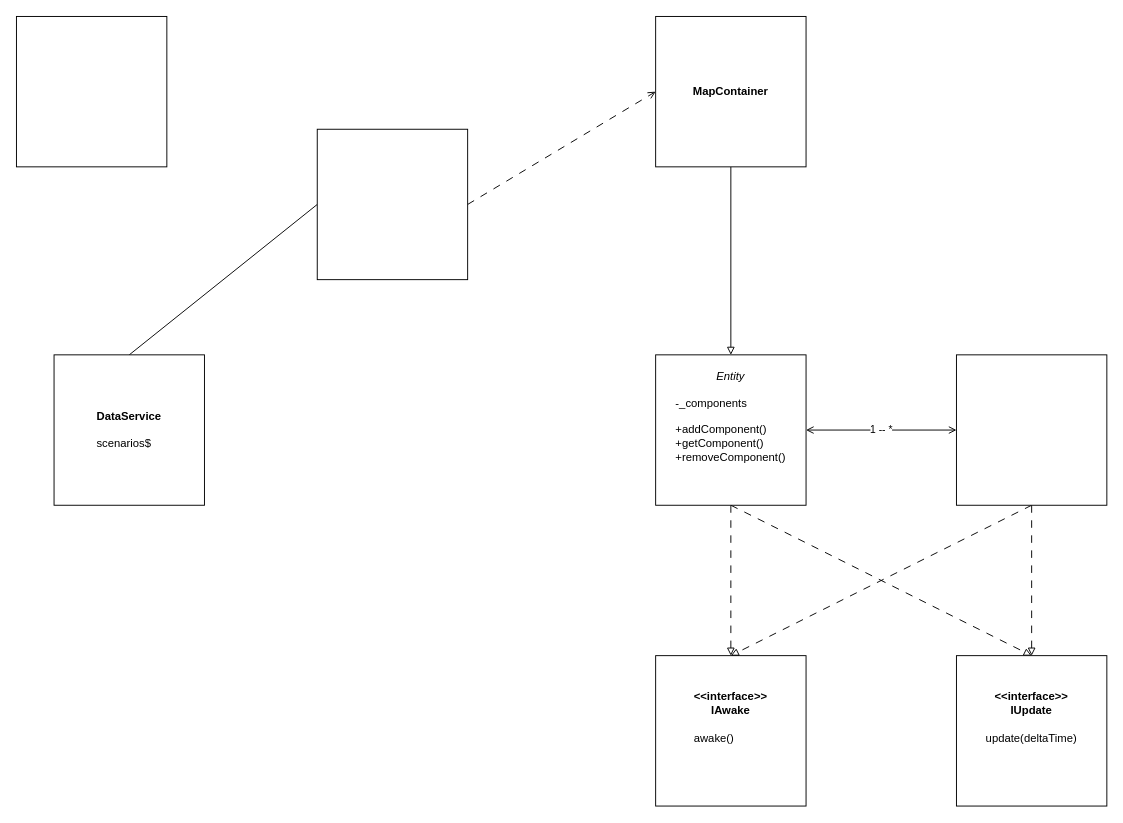
This 1123x823 diagram has some shape labels left out. Here are the shapes that lost their labels. From the top down, the box of each, then its label:
(16, 16, 167, 167): Clock Tick$
(316, 128, 468, 280): AppComponent +currentScenario$ +events$
(956, 354, 1107, 505): <<interface>> IComponent entity
